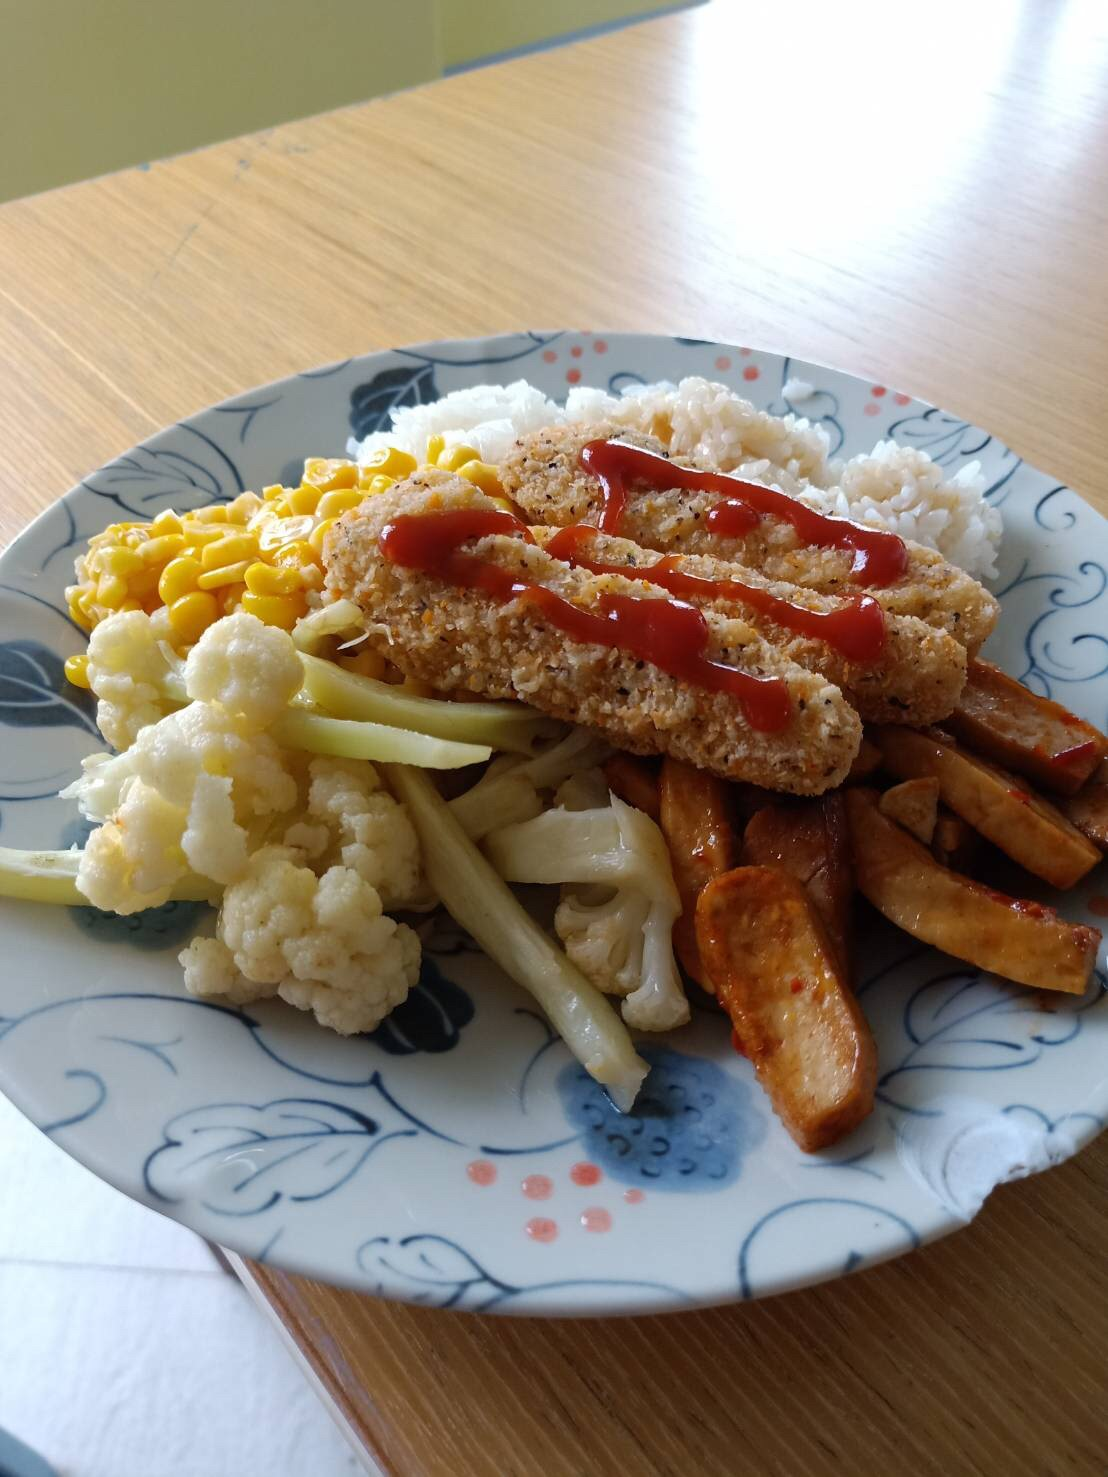rice: (346, 372, 983, 544)
